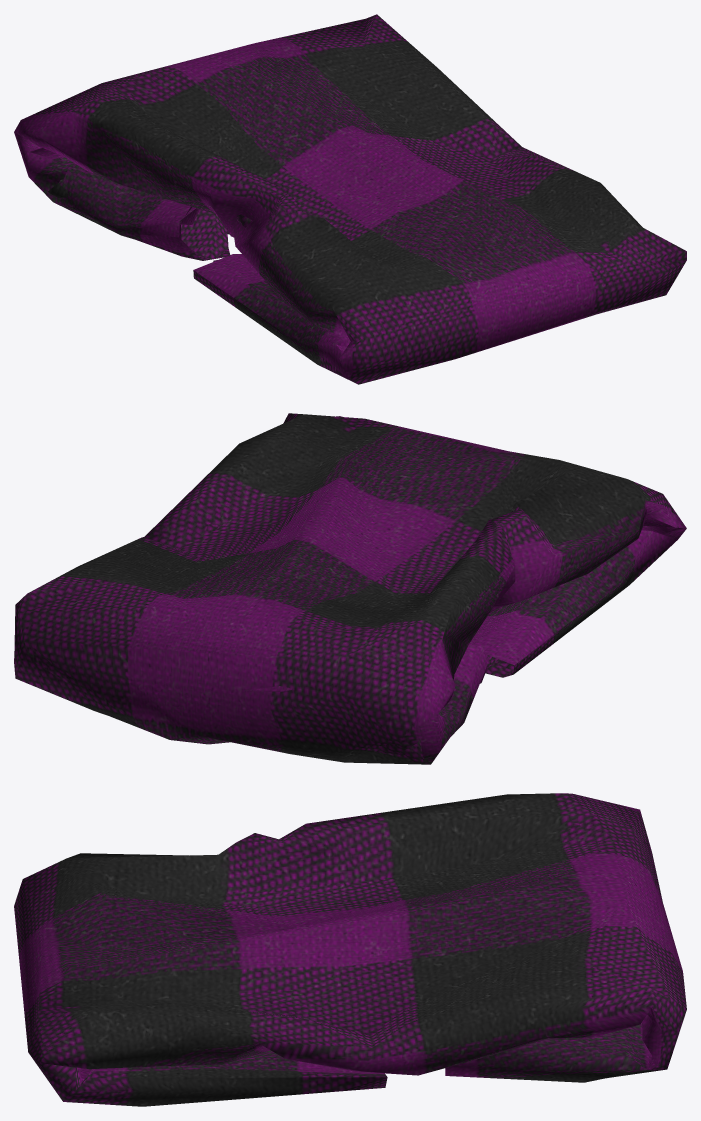
The model's file is Folded clothes 2.fbx.
3 views of the same model, one above another, from view 1: azimuth 30°, elevation 25°; view 2: azimuth 150°, elevation 25°; view 3: azimuth 270°, elevation 25° (orthographic). The views are drawn at different scales.
Parts seen in each view (by area): view 1: folded clothes 2; view 2: folded clothes 2; view 3: folded clothes 2.
Part boxes in pixels (x1=…): folded clothes 2: x1=14, y1=14, x2=686, y2=384; folded clothes 2: x1=14, y1=413, x2=686, y2=764; folded clothes 2: x1=14, y1=793, x2=686, y2=1106.
Size of the model in its own units: 27.9 by 7.92 by 36.43.
Materials: 1 (1 with a texture image).
